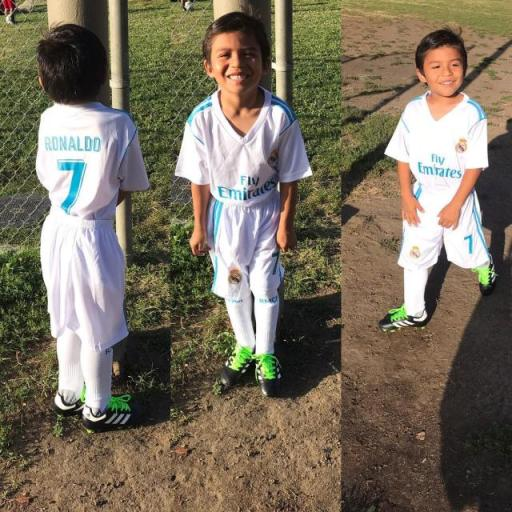Emirates: (214, 174, 279, 204), (414, 150, 463, 180)
